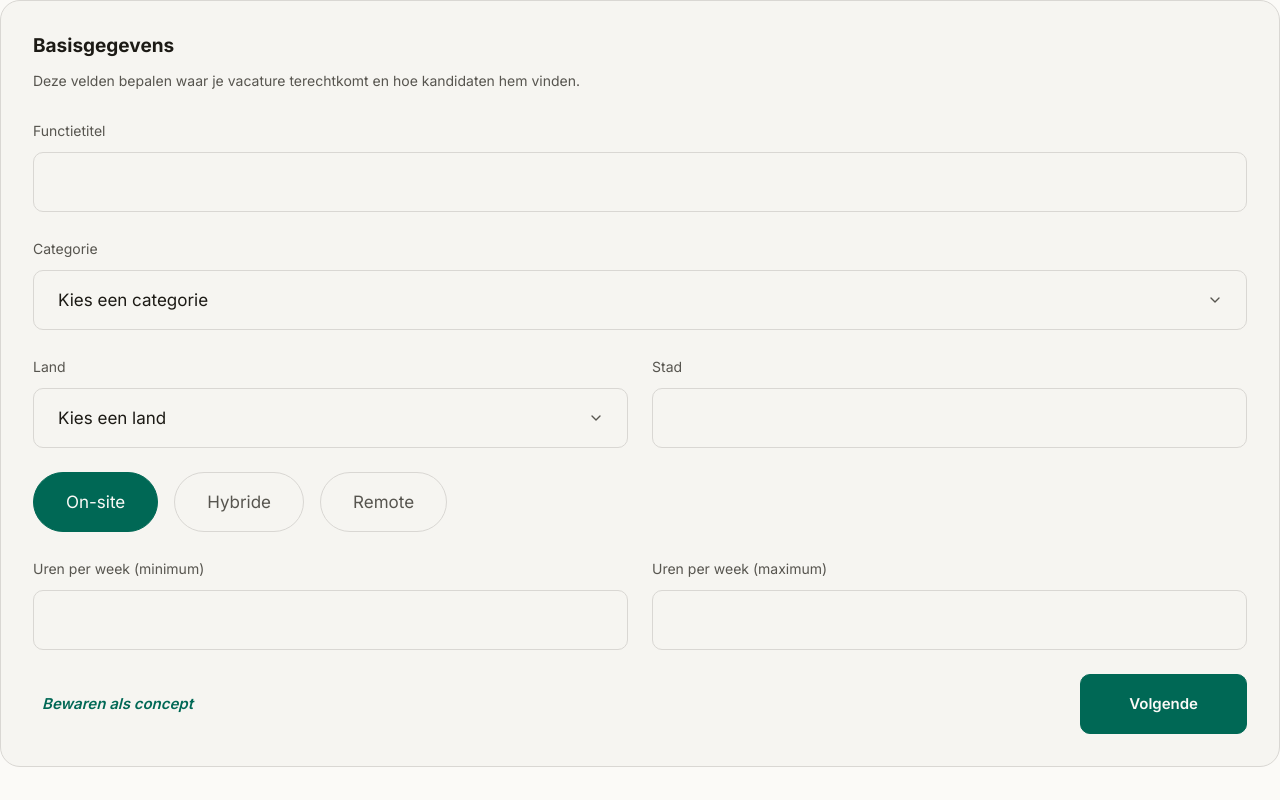
it: VacancyCoreForm › shows the selected country ISO2 code as a suffix on the Land select
Check: the text "NL" is not shown
Select "Nederland" in the dropdown labelled "Land" at (330, 418), box [33,388,628,448]
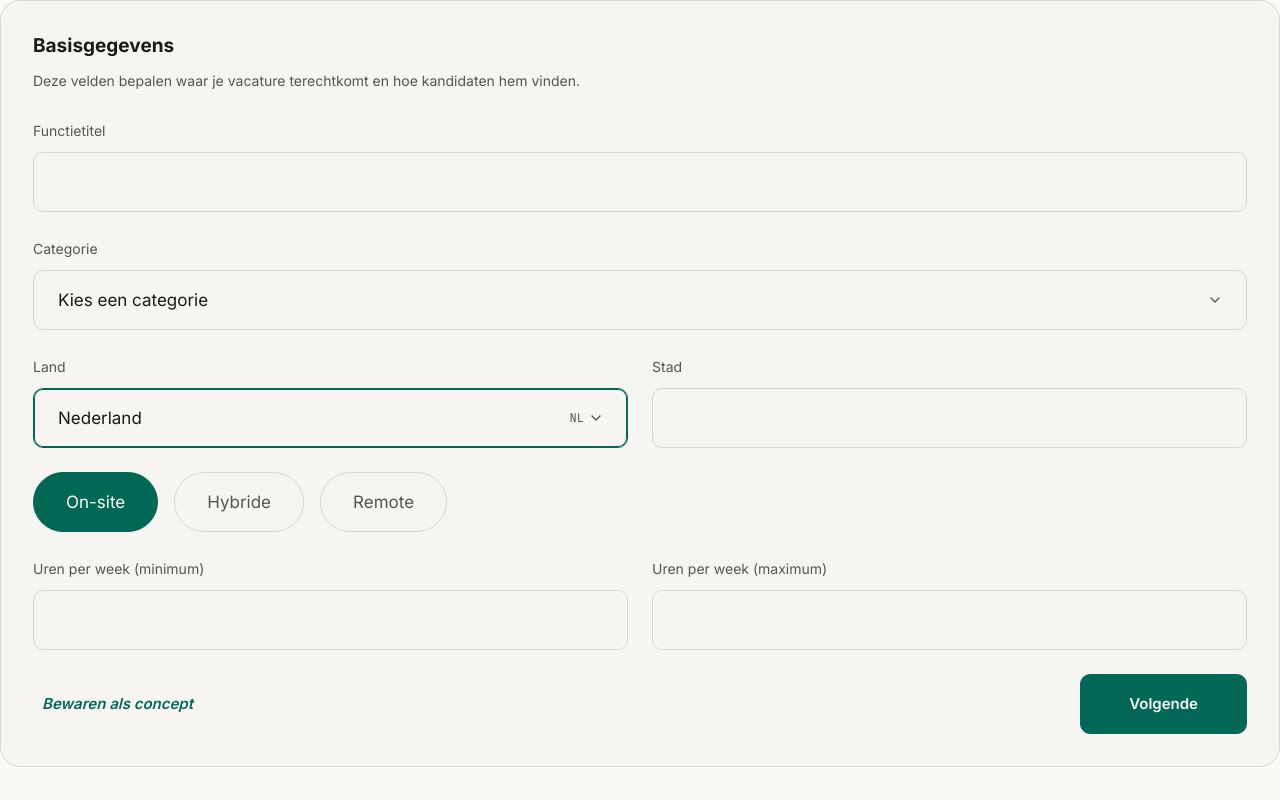
Check: the text "NL" is shown, box [570,405,584,431]
